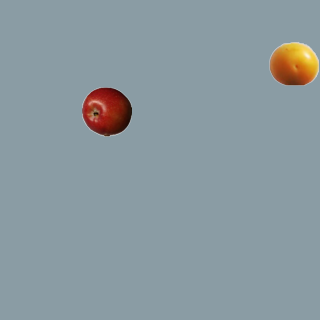Apple Braeburn: (81, 86, 131, 136)
Cherry Wax Yellow: (268, 38, 318, 88)
